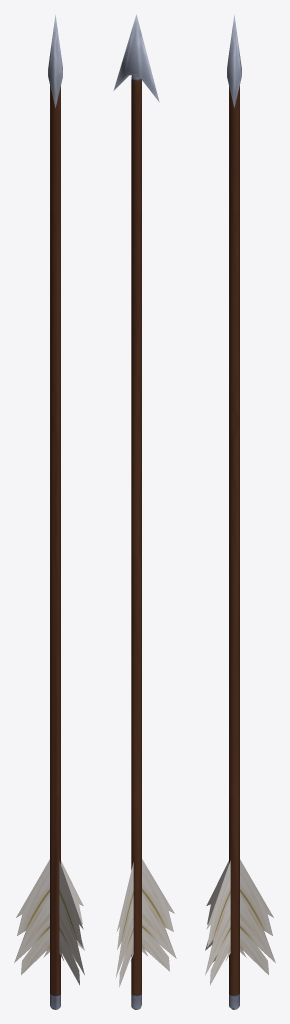
File: weapon_Arrow.fbx
3 views of the same model, side by side, from view 1: azimuth 90°, elevation 25°; view 2: azimuth 150°, elevation 25°; view 3: azimuth 270°, elevation 25° (orthographic).
Parts seen in each view (by area): view 1: weapon_Arrow; view 2: weapon_Arrow; view 3: weapon_Arrow.
Boxes of the visible parts, bbox=[...] form: weapon_Arrow: bbox=[14, 15, 84, 1009]; weapon_Arrow: bbox=[113, 14, 176, 1009]; weapon_Arrow: bbox=[205, 15, 275, 1009].
Bounding box in the file's own units: 5.2 × 97.15 × 6.28.
